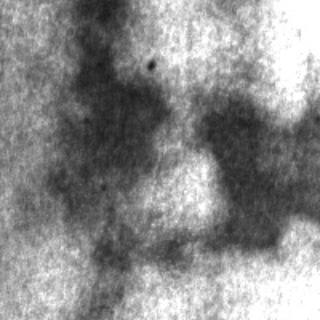patches: (58, 0, 162, 208), (194, 88, 318, 252), (90, 223, 188, 315)
